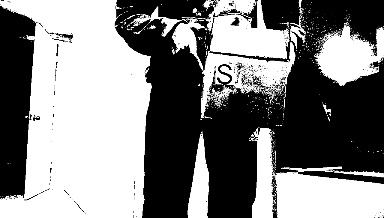S: (215, 61, 235, 86)
